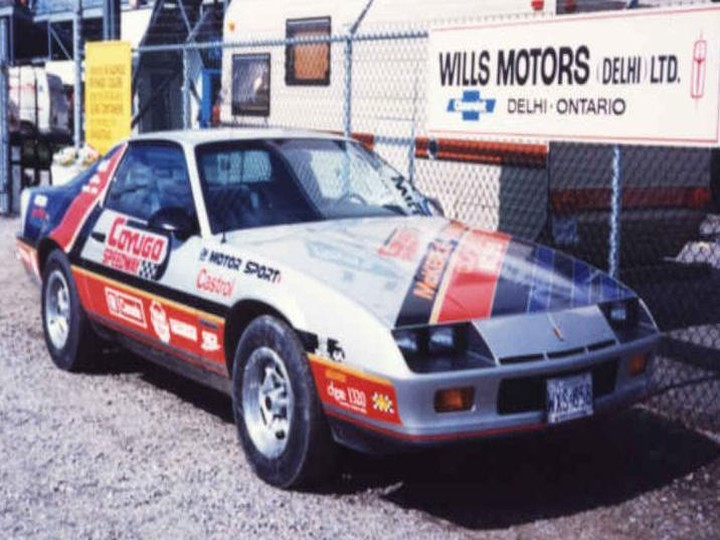car: (25, 113, 663, 491)
